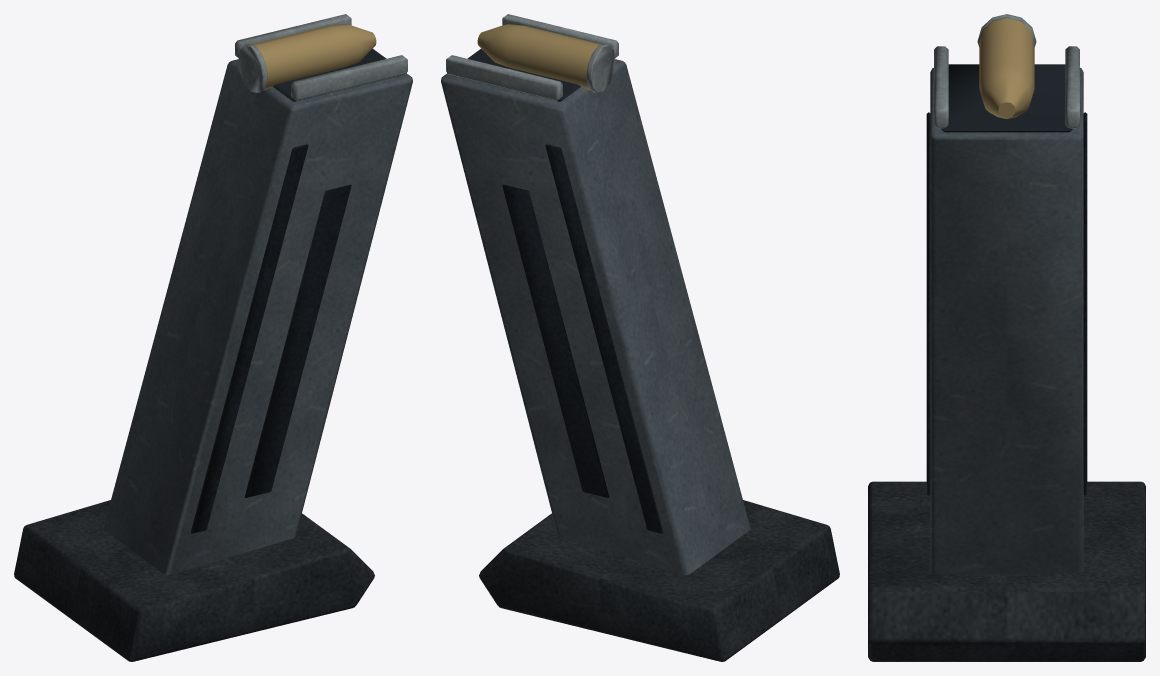
The model's file is pistol_magazine_loaded.glb.
3 renders of one model, left to right at view 1: azimuth 30°, elevation 25°; view 2: azimuth 150°, elevation 25°; view 3: azimuth 270°, elevation 25°, orthographic. The views are drawn at different scales.
Visible parts, largest first — view 1: Magazine_Exterior; view 2: Magazine_Exterior; view 3: Magazine_Exterior.
Boxes of the visible parts, x1,y1,x2,y2 form: Magazine_Exterior: (14,14,412,661); Magazine_Exterior: (441,14,839,661); Magazine_Exterior: (868,14,1145,661).
Bounding box in the file's own units: 0.0576 × 0.094 × 0.038.
Materials: 6 (4 with a texture image).
